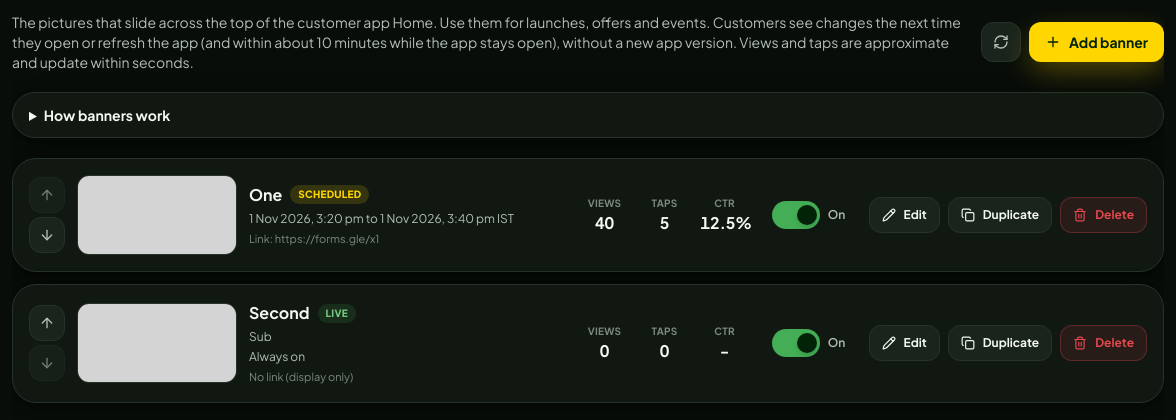
it: BannersPanel active switch › is not optimistic: disabled while the request runs, changes only after the server answers
Click the switch named "One: switched on": (796, 215) [772,201,820,229]
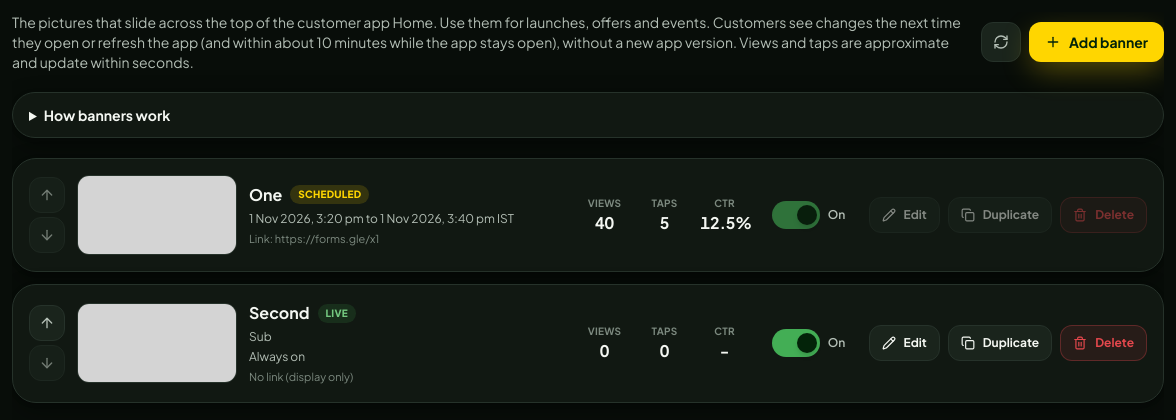
Click the switch named "One: switched on": (796, 215) [772,201,820,229]
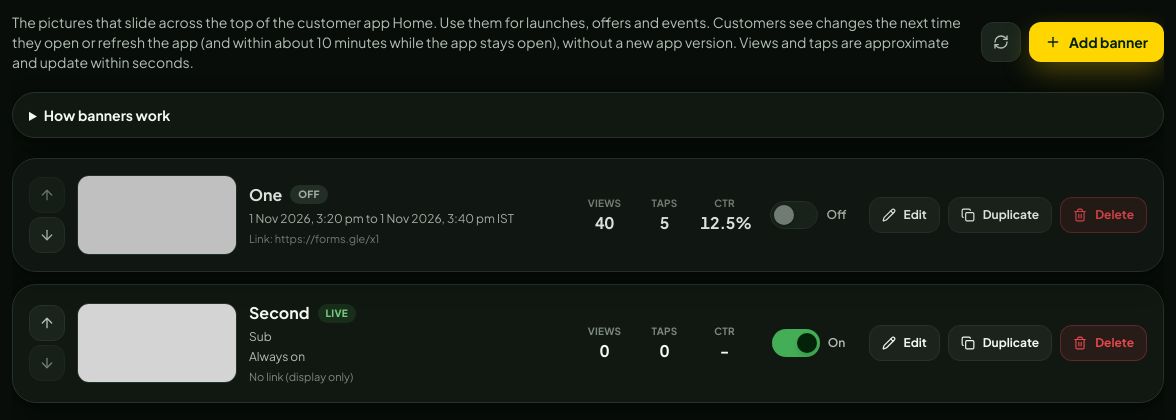
Now the text with test id "banner-status" next to "One" reads "Off", box [298,188,320,200]
